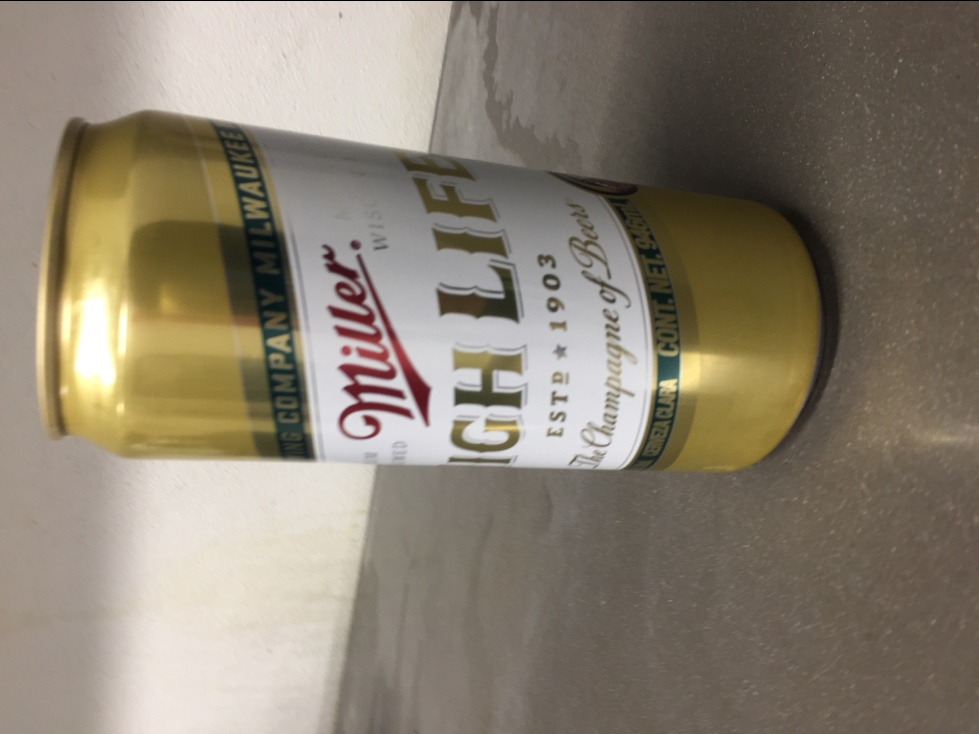miller: (35, 107, 832, 480)
